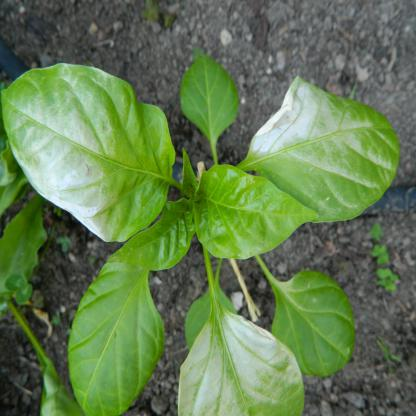Tomato leaf: (59, 209, 189, 416), (195, 167, 314, 262)
